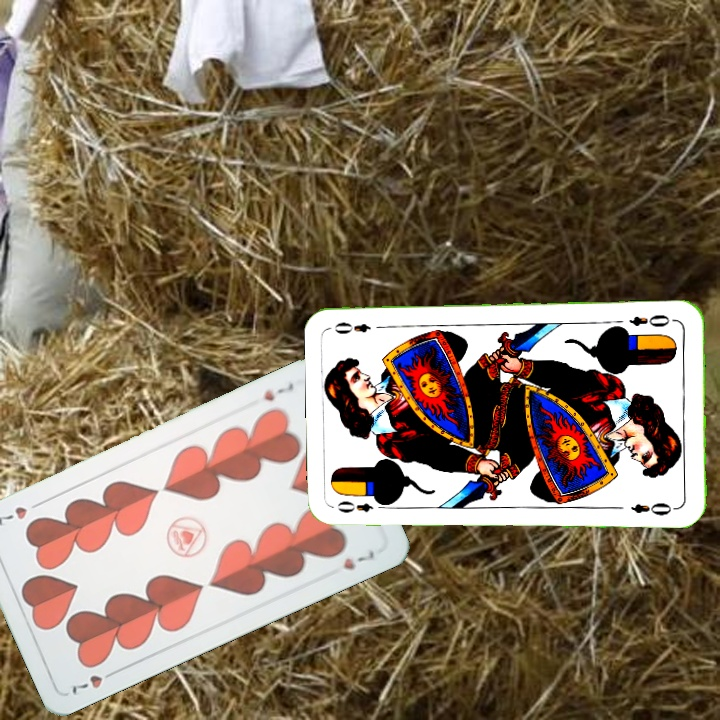EO: (625, 310, 672, 329), (334, 498, 376, 515)
H7: (67, 665, 121, 698), (260, 378, 297, 404)
